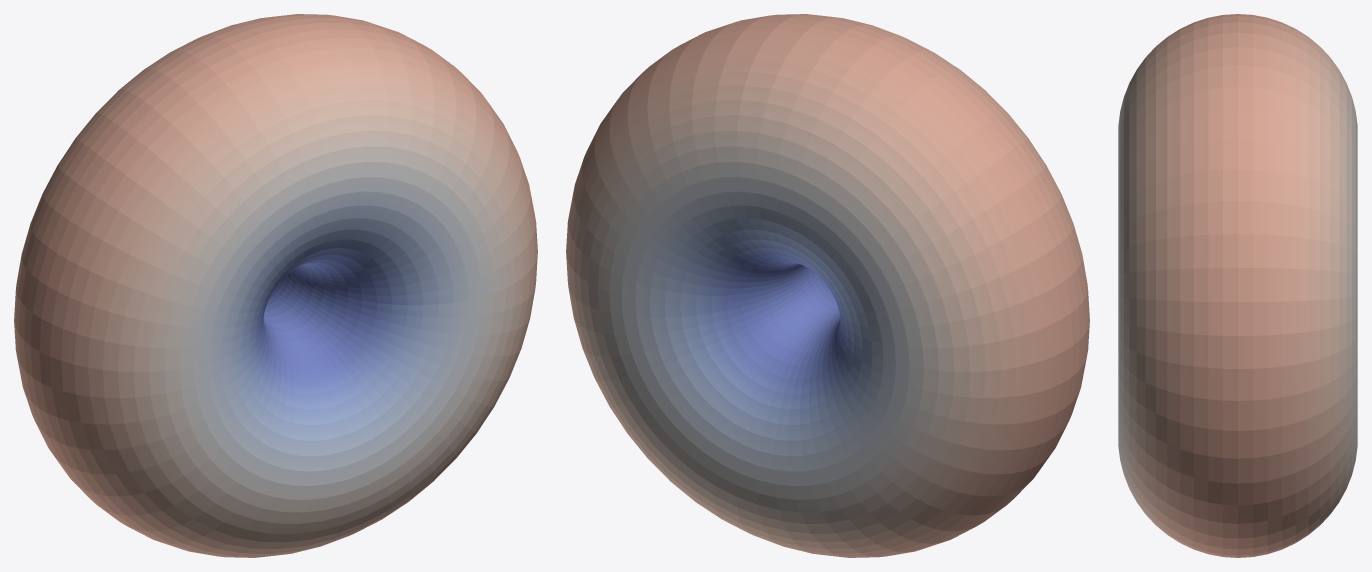
The picture shows the model from 3 angles, left to right: view 1: azimuth 30°, elevation 25°; view 2: azimuth 150°, elevation 25°; view 3: azimuth 270°, elevation 25°; orthographic projection. The views are drawn at different scales.
Parts seen in each view (by area): view 1: world; view 2: world; view 3: world.
Boxes of the visible parts, left/top/right/bottom form: world: left=14, top=14, right=537, bottom=557; world: left=566, top=14, right=1089, bottom=557; world: left=1118, top=14, right=1357, bottom=557.
Bounding box in the file's own units: 21.47 × 21.42 × 9.45.
